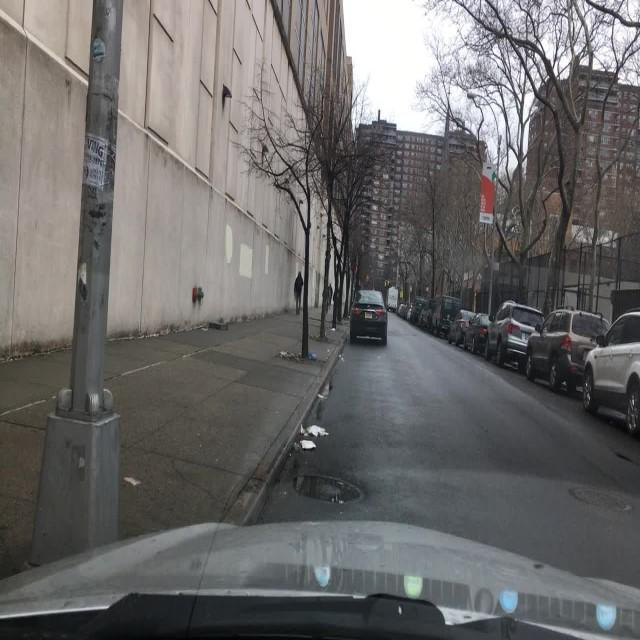normal: (0, 519, 616, 639), (581, 306, 640, 434), (523, 311, 611, 394), (485, 302, 546, 374), (348, 290, 387, 345), (432, 296, 463, 339), (462, 311, 490, 354), (448, 309, 476, 346), (395, 302, 408, 319)
